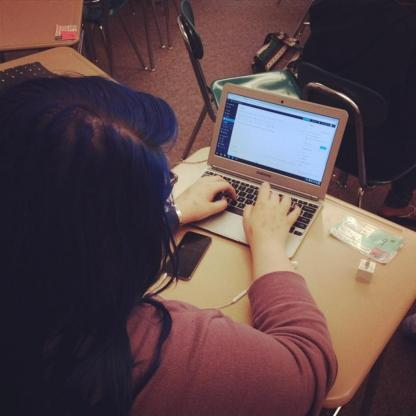board: (181, 79, 351, 272)
